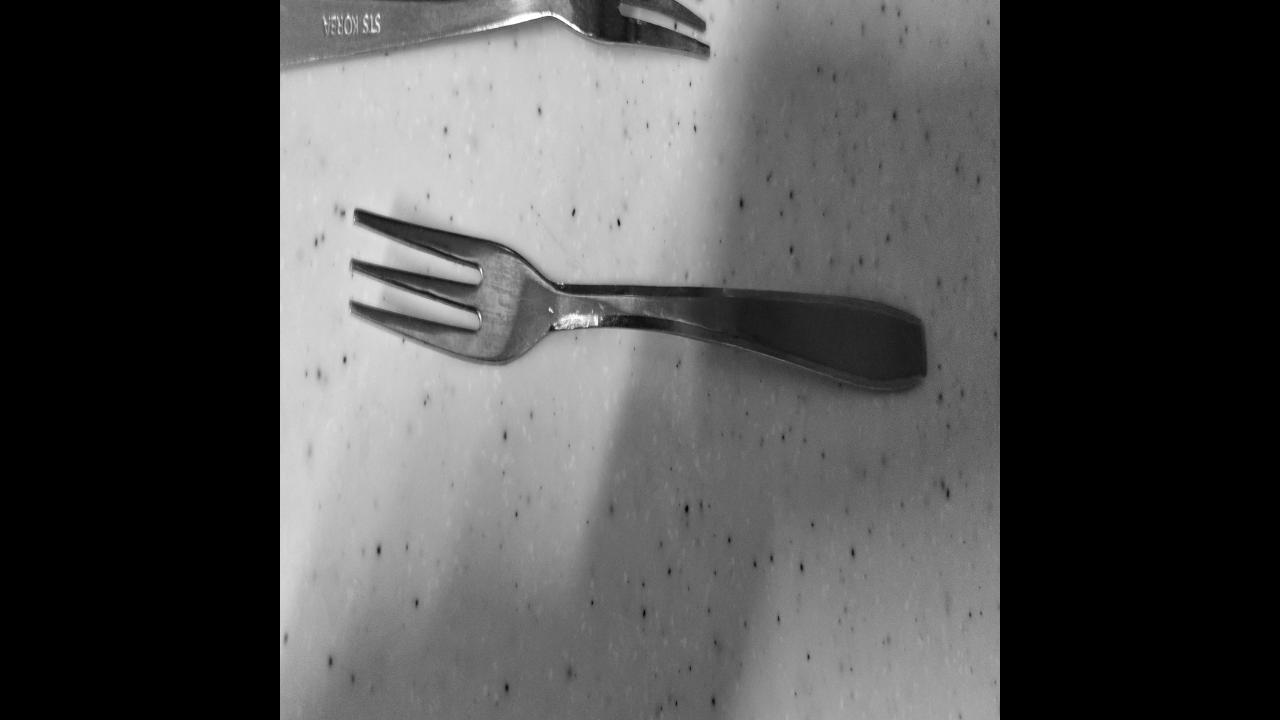fork: (348, 210, 920, 386), (281, 0, 708, 97)
